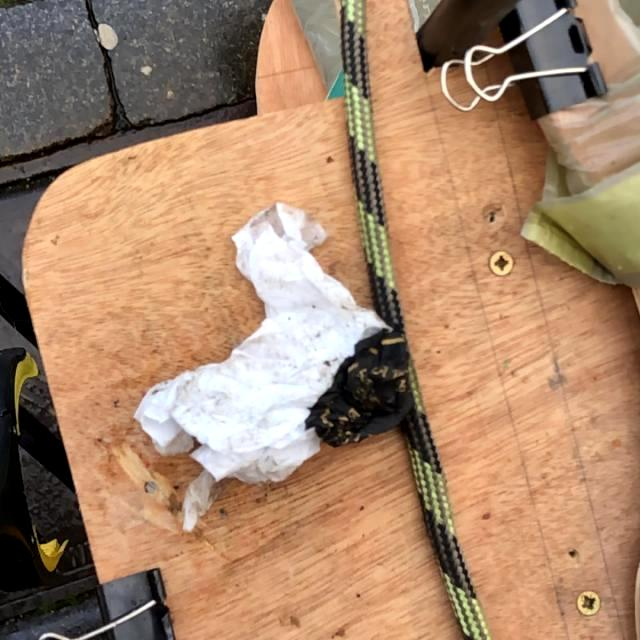Paper: (130, 200, 394, 534)
